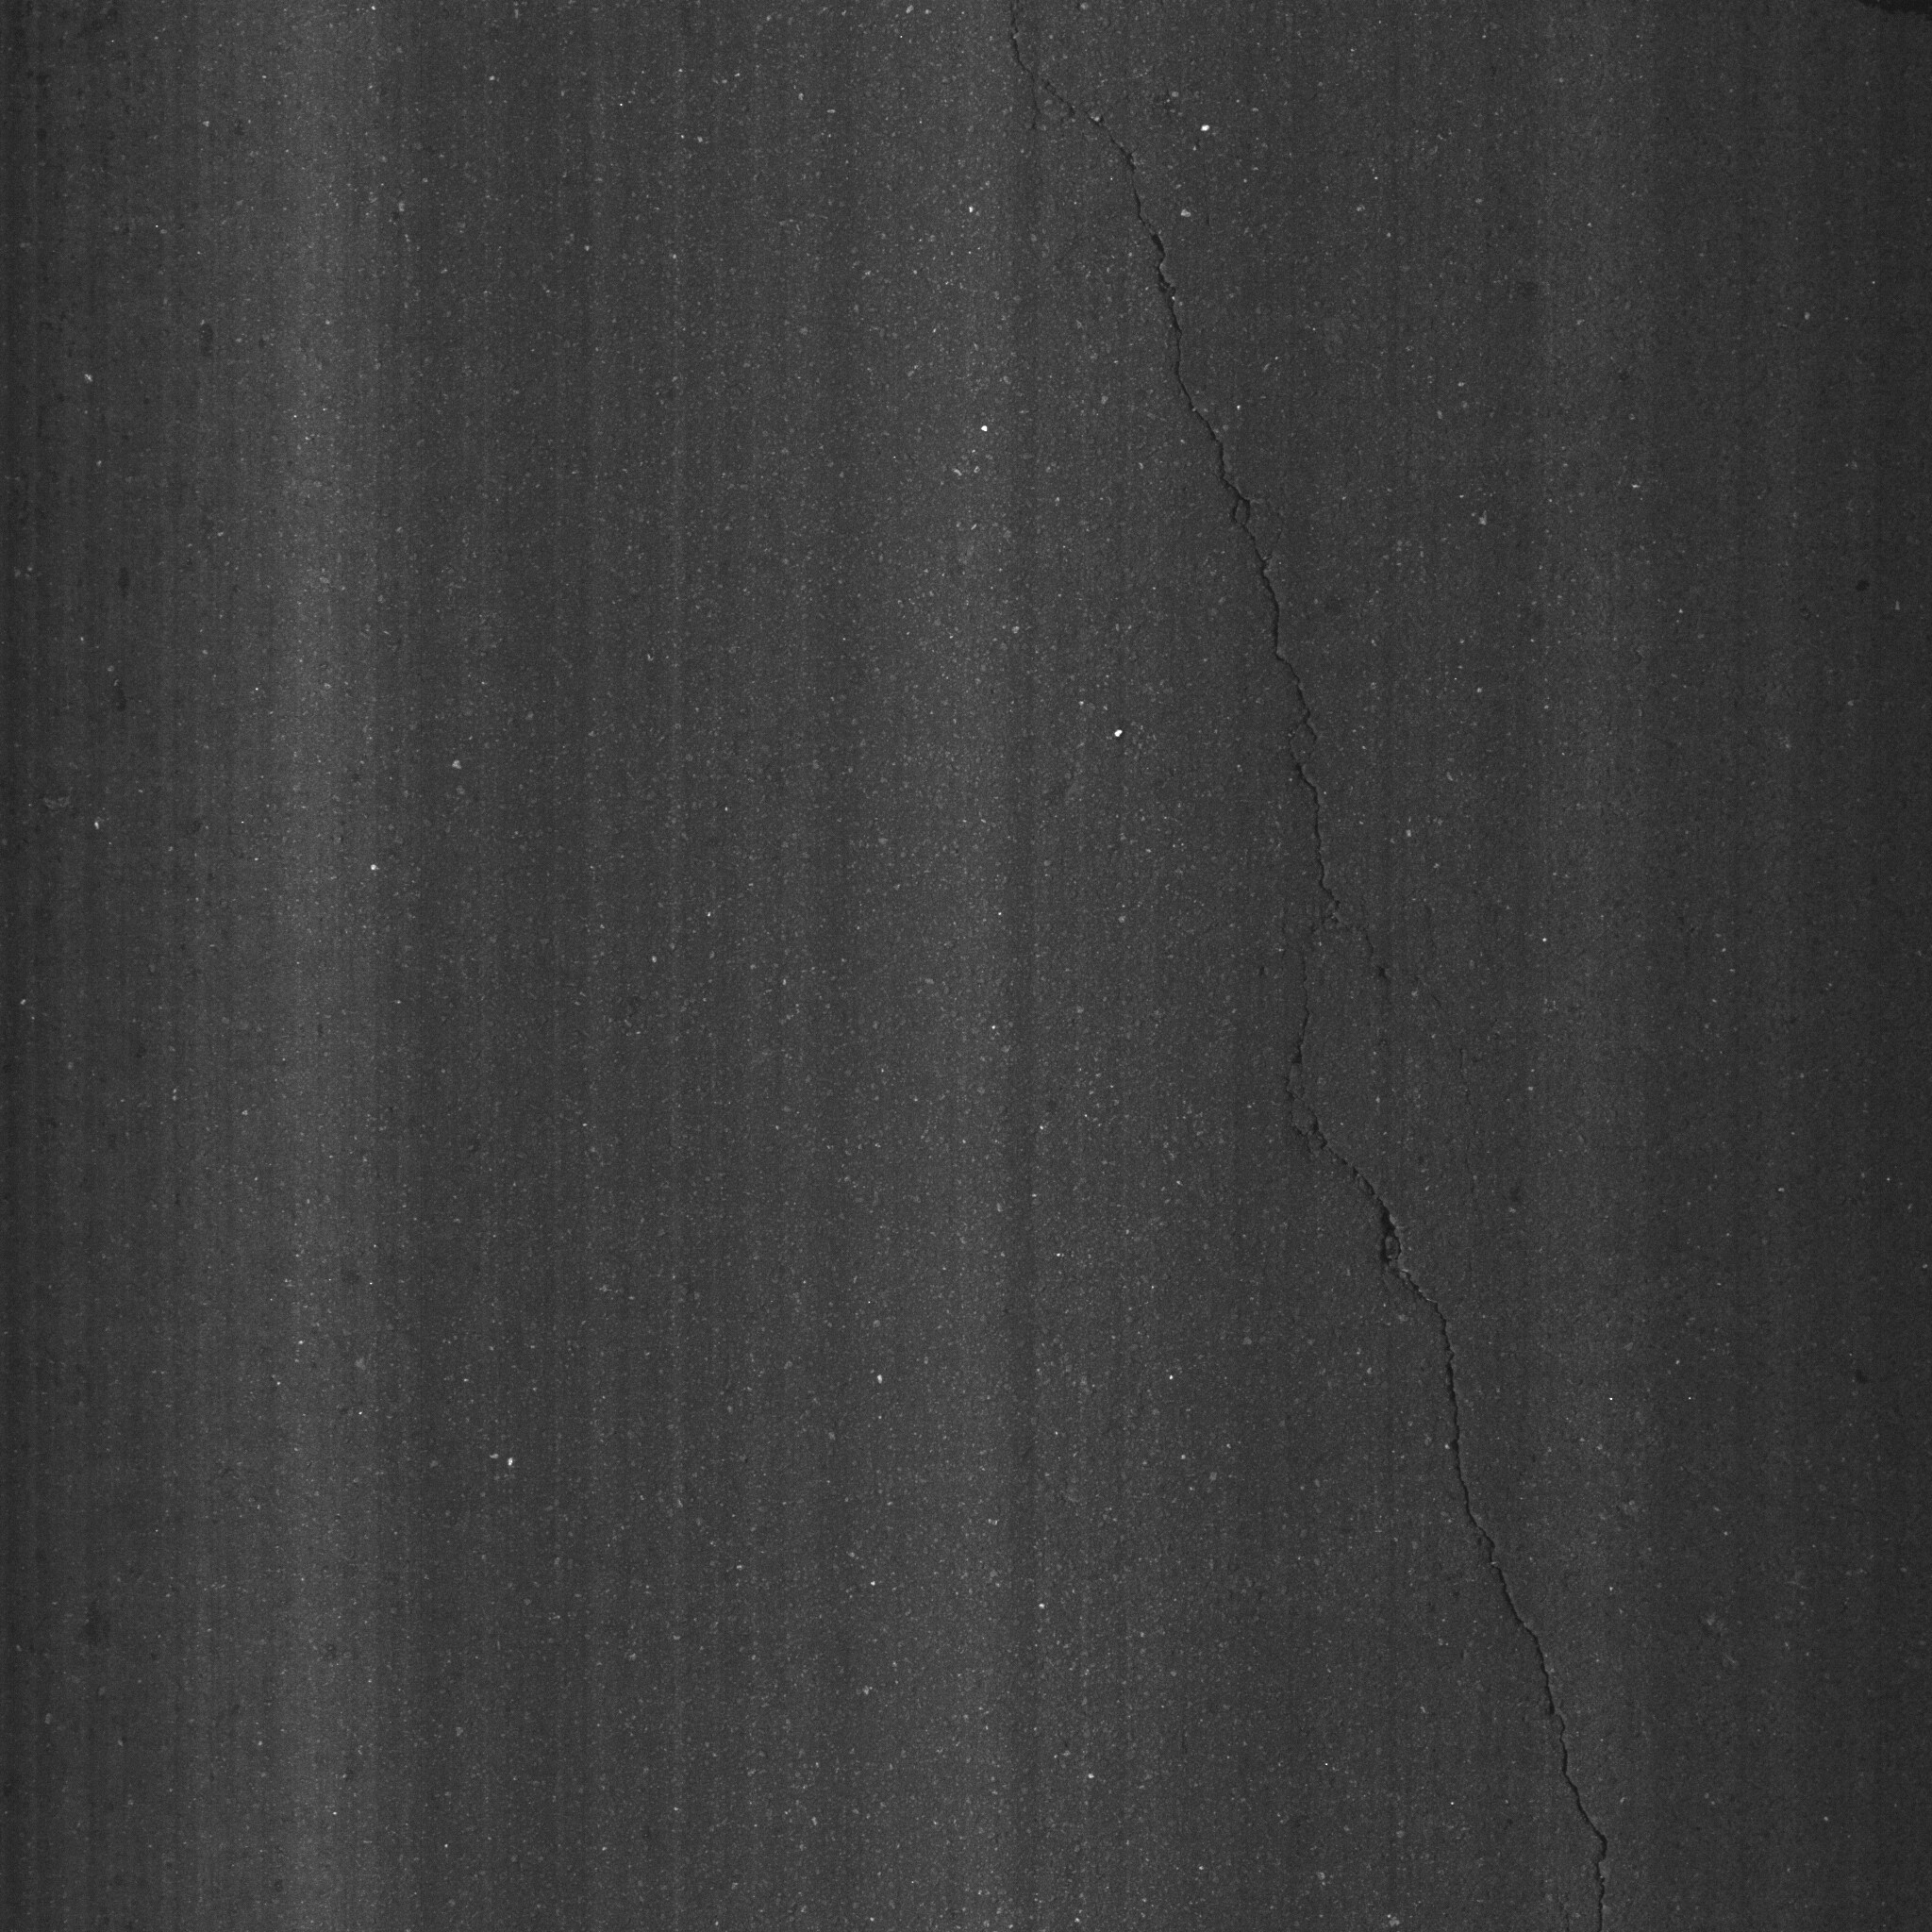longitudinal: (971, 2, 1697, 1921)
